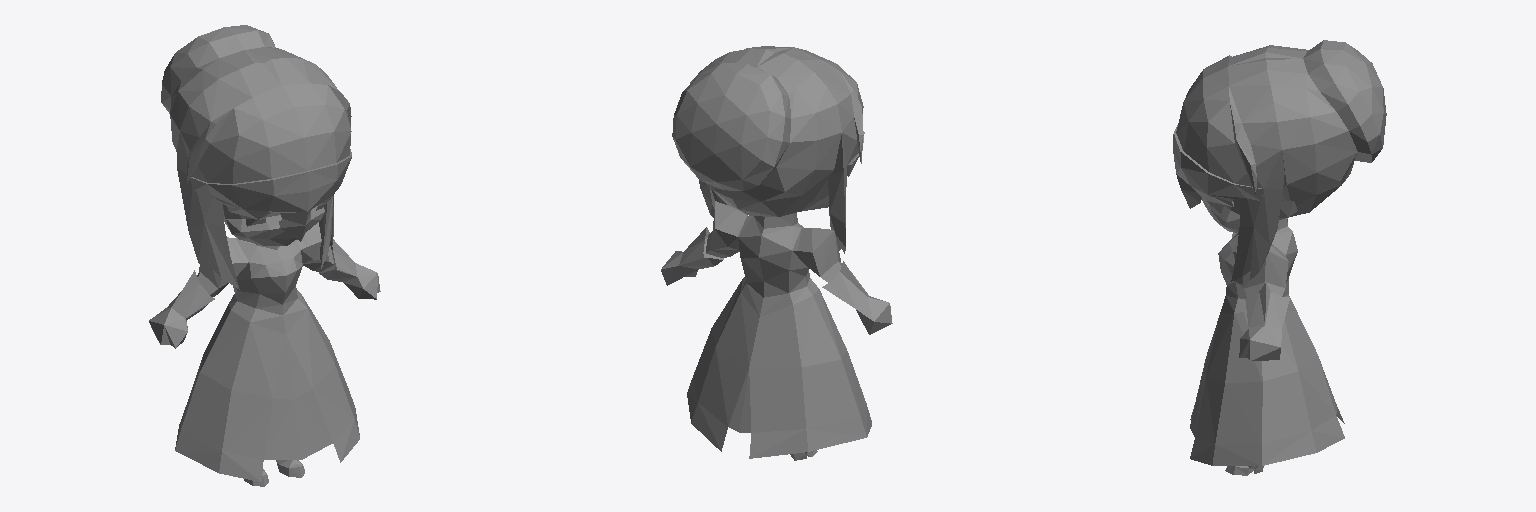
The model's file is Saber.obj.
The picture shows the model from 3 angles: view 1: azimuth 30°, elevation 25°; view 2: azimuth 150°, elevation 25°; view 3: azimuth 270°, elevation 25°; orthographic projection.
Parts seen in each view (by area): view 1: saber; view 2: saber; view 3: saber.
Part boxes in pixels (bbox=[...]): saber: bbox=[149, 25, 380, 486]; saber: bbox=[661, 46, 892, 460]; saber: bbox=[1173, 40, 1386, 475].
Size of the model in its own units: 0.552 by 0.9928 by 0.4643.